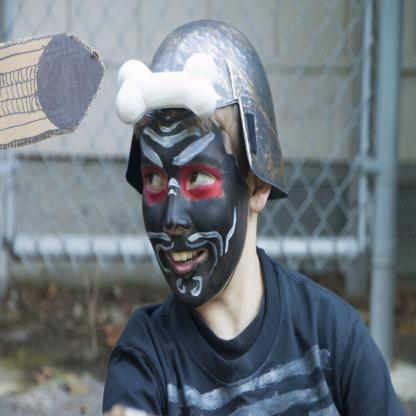Helmet: (125, 18, 291, 196)
